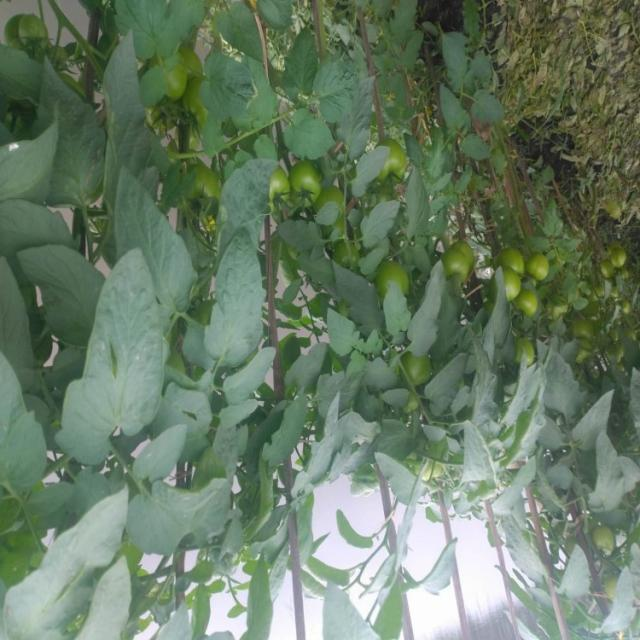tomato: (1, 7, 64, 57), (184, 167, 224, 223), (290, 159, 330, 209), (508, 338, 550, 383), (150, 95, 194, 137), (527, 252, 573, 292), (438, 248, 483, 284), (371, 263, 417, 297), (583, 521, 625, 557), (563, 307, 601, 346), (496, 271, 529, 313), (387, 131, 411, 184), (405, 353, 443, 386), (499, 249, 540, 279), (267, 176, 294, 221), (520, 283, 549, 324), (602, 258, 625, 284), (615, 249, 635, 277)
